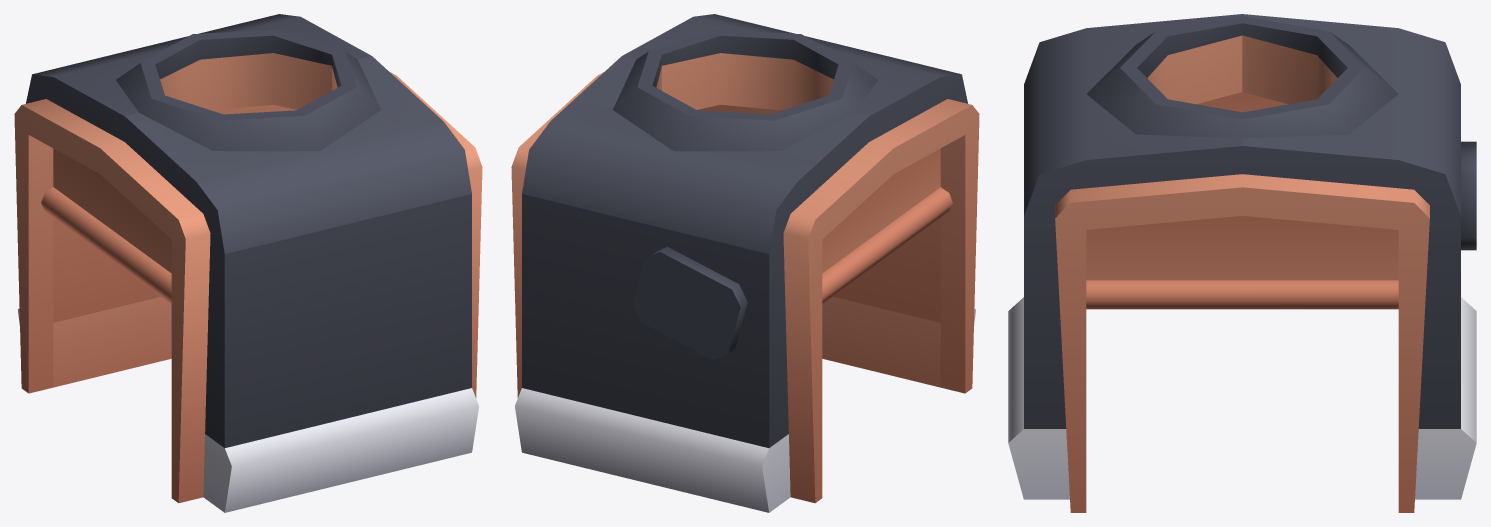
File: machine-connection-hole.obj
3 views of the same model, side by side, from view 1: azimuth 30°, elevation 25°; view 2: azimuth 150°, elevation 25°; view 3: azimuth 270°, elevation 25° (orthographic). The views are drawn at different scales.
Parts seen in each view (by area): view 1: machine-connection-hole; view 2: machine-connection-hole; view 3: machine-connection-hole.
Part boxes in pixels (x1,y1,x2,y2): machine-connection-hole: (14,14,482,512); machine-connection-hole: (511,14,979,512); machine-connection-hole: (1008,14,1476,512).
Size of the model in its own units: 1.2 by 1.29 by 1.5.
